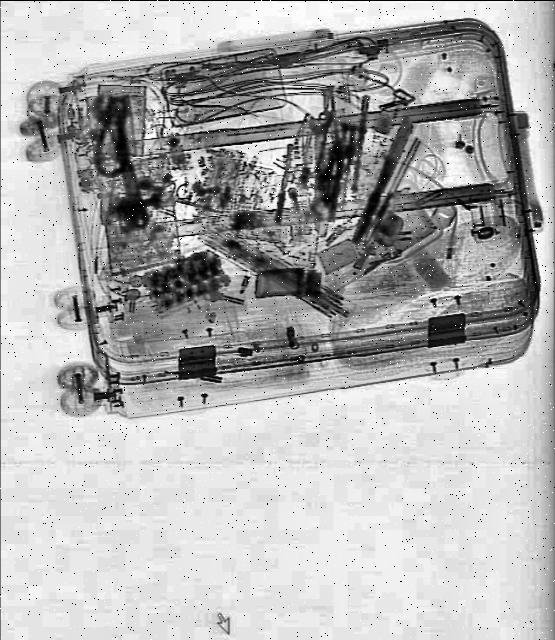Wrench: (88, 88, 162, 235), (304, 112, 336, 212)
